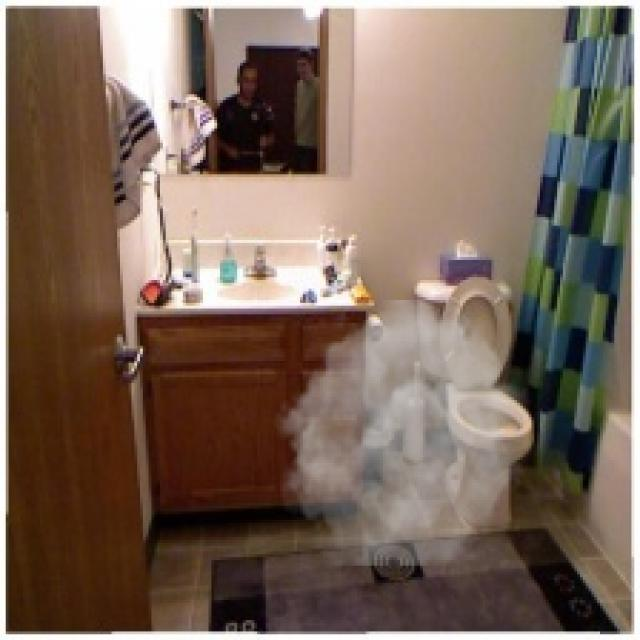smoke: (272, 300, 532, 566)
